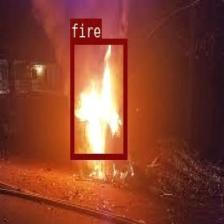fire: (70, 38, 126, 158)
